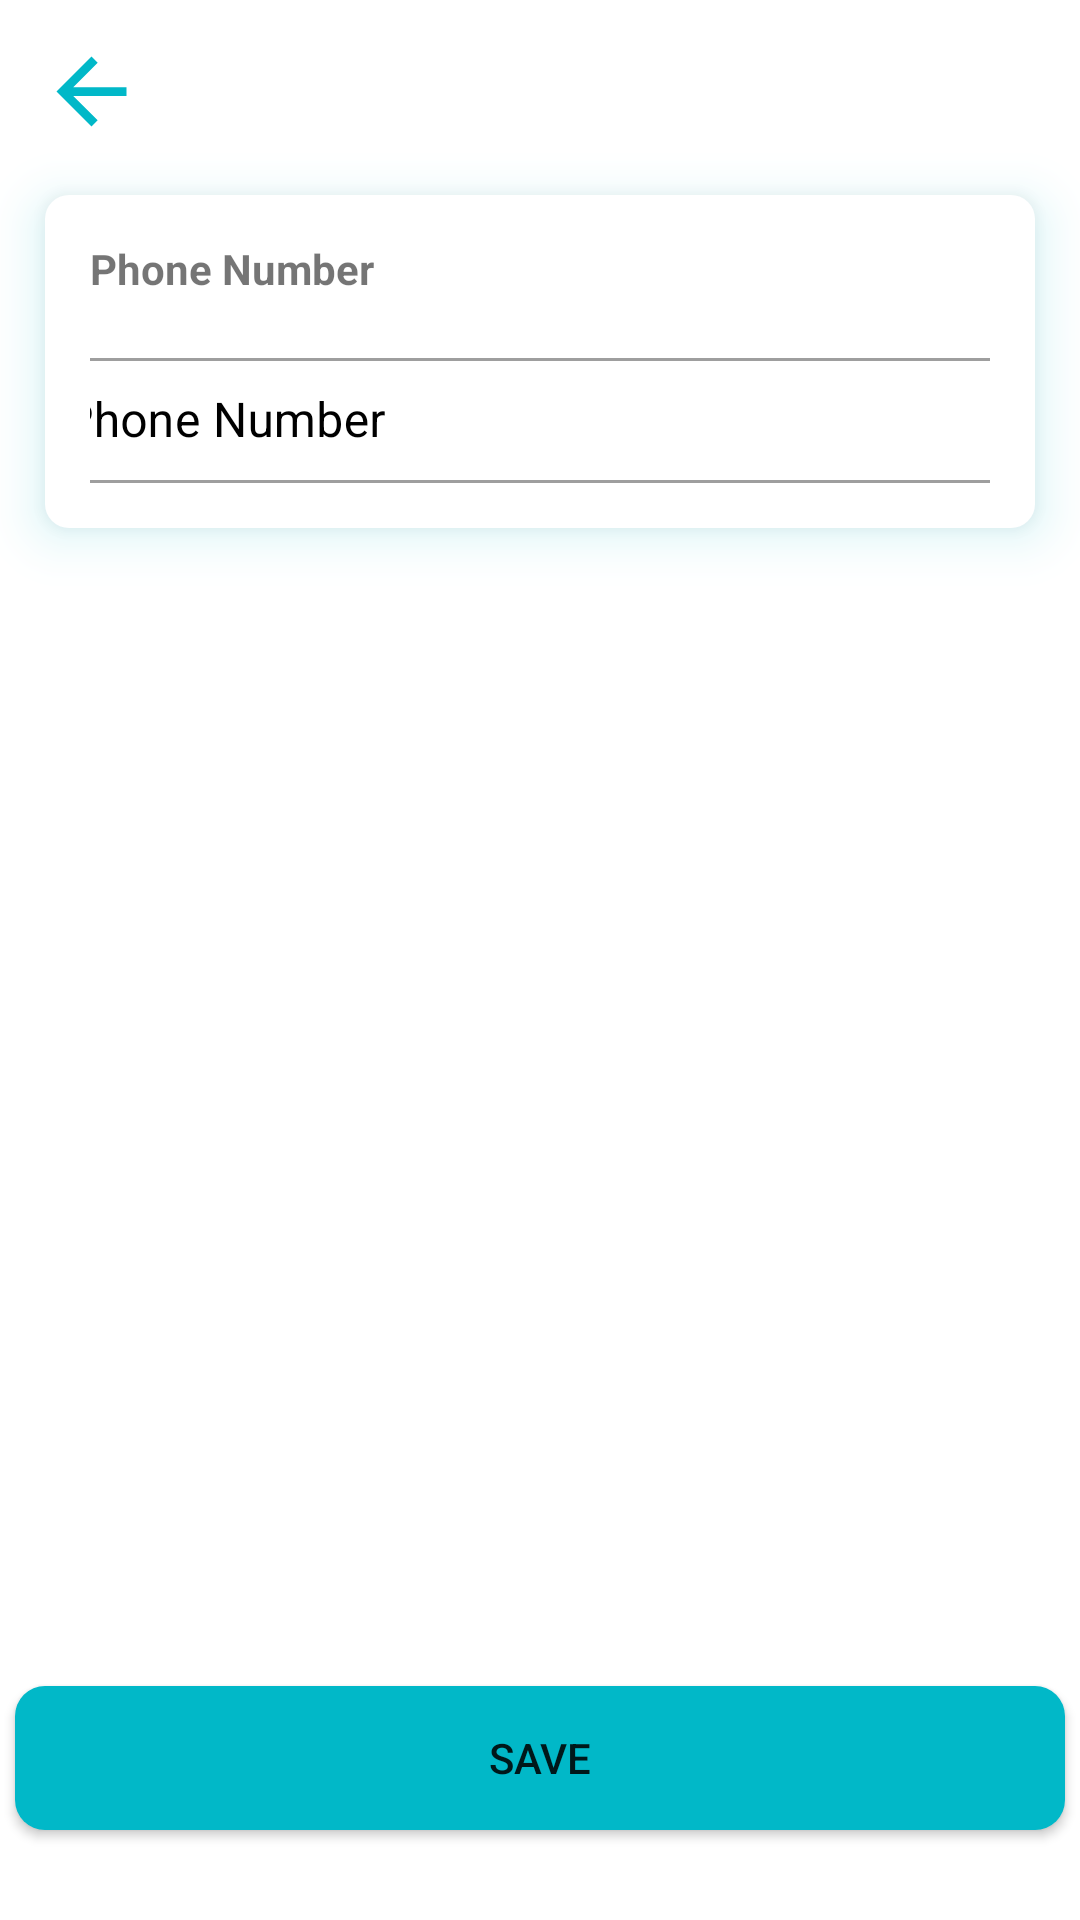

Where to tap for icons on this 1080×1920 app screen, as [x,y]:
arrow back: [91,91]
